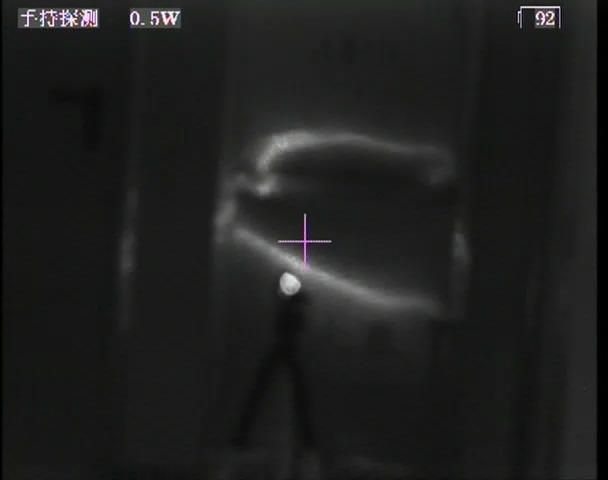my: (276, 268, 306, 297)
